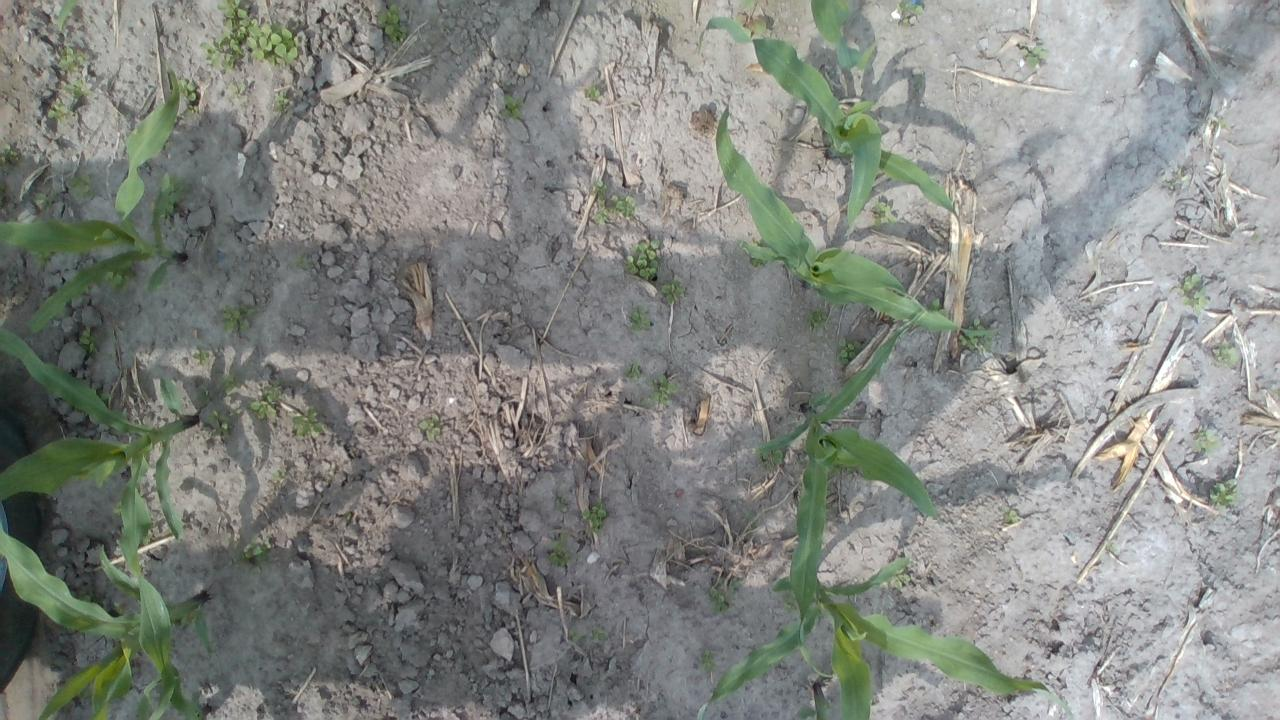Maize: (716, 104, 1000, 344), (756, 310, 940, 680), (706, 557, 1072, 720), (696, 14, 962, 233), (0, 56, 182, 337), (0, 328, 201, 578), (0, 521, 211, 720), (87, 556, 212, 720), (808, 0, 878, 70), (790, 678, 836, 720)
Weeds: (200, 0, 256, 70), (244, 19, 302, 68), (227, 535, 274, 575), (622, 240, 663, 280), (248, 378, 286, 420), (376, 4, 409, 44), (292, 406, 328, 440), (102, 263, 140, 295), (161, 175, 189, 218), (958, 318, 992, 353), (644, 373, 678, 406), (207, 404, 241, 436), (221, 302, 255, 334), (580, 496, 608, 534), (1208, 478, 1239, 510), (1181, 273, 1207, 311), (870, 198, 898, 230), (66, 173, 95, 202), (660, 276, 689, 304), (592, 179, 609, 225), (546, 536, 571, 567), (837, 336, 864, 364), (706, 586, 730, 617), (807, 302, 831, 332), (1192, 427, 1218, 454), (610, 194, 638, 219), (756, 446, 784, 470), (499, 94, 525, 119), (58, 48, 86, 70), (419, 413, 441, 441), (1024, 44, 1048, 68), (79, 328, 101, 354), (176, 608, 198, 632), (1216, 344, 1238, 368), (896, 0, 924, 18), (629, 306, 650, 330), (29, 249, 56, 267), (622, 358, 644, 380), (63, 80, 93, 96), (220, 374, 242, 395), (34, 191, 55, 213), (190, 388, 213, 408), (176, 78, 196, 100), (894, 568, 912, 592), (48, 99, 66, 122), (928, 298, 948, 318), (702, 648, 717, 674), (227, 80, 246, 99), (1001, 506, 1020, 524), (0, 142, 17, 162), (190, 347, 210, 363), (274, 93, 290, 113), (743, 512, 757, 534), (813, 391, 833, 406), (784, 592, 798, 612), (294, 252, 308, 271), (110, 600, 126, 616), (554, 496, 568, 513), (750, 256, 769, 268), (751, 19, 768, 32), (584, 85, 601, 97), (592, 626, 606, 640), (751, 238, 768, 249), (270, 470, 286, 481), (728, 580, 742, 592), (740, 0, 755, 11), (184, 105, 199, 116), (1216, 118, 1228, 130), (111, 500, 122, 512), (99, 392, 111, 401), (0, 207, 10, 216), (1106, 542, 1115, 552), (568, 630, 576, 641)
